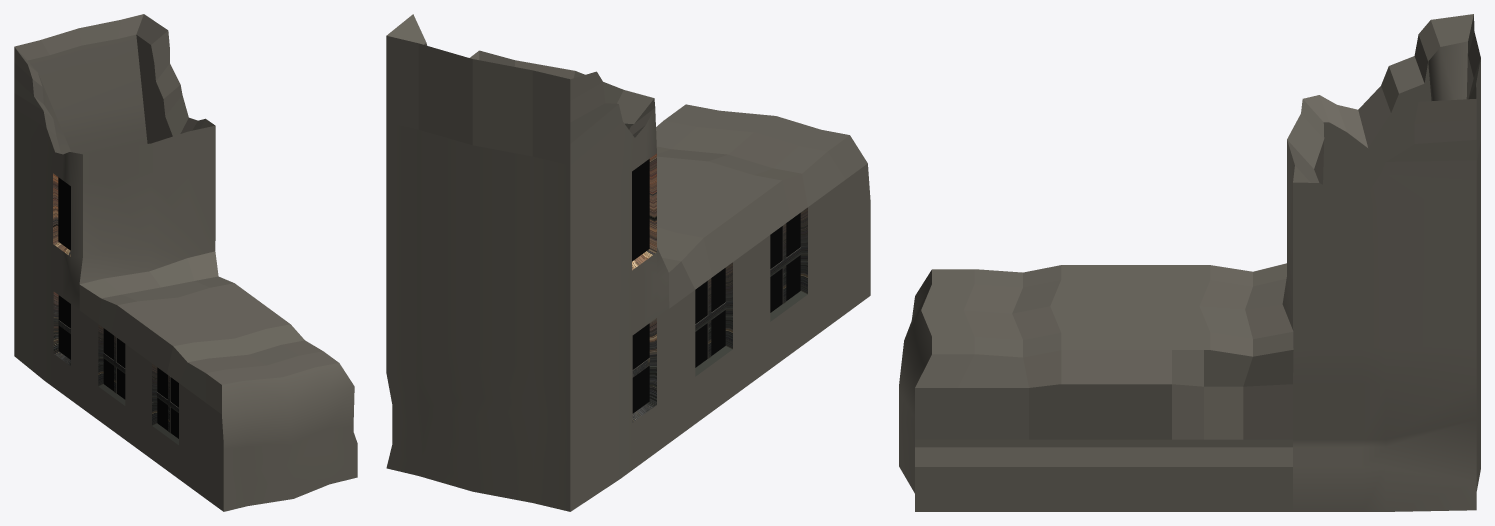
Rendered from fase3_predio1.fbx.
The picture shows the model from 3 angles, left to right: view 1: azimuth 30°, elevation 25°; view 2: azimuth 150°, elevation 25°; view 3: azimuth 270°, elevation 25°; orthographic projection. The views are drawn at different scales.
Visible parts, largest first — view 1: broken1; view 2: broken1; view 3: broken1.
Boxes of the visible parts, x1,y1,x2,y2 form: broken1: [14, 14, 357, 511]; broken1: [386, 14, 870, 511]; broken1: [899, 14, 1480, 511].
Bounding box in the file's own units: 50.77 × 111 × 142.
3 materials, 1 textured.
